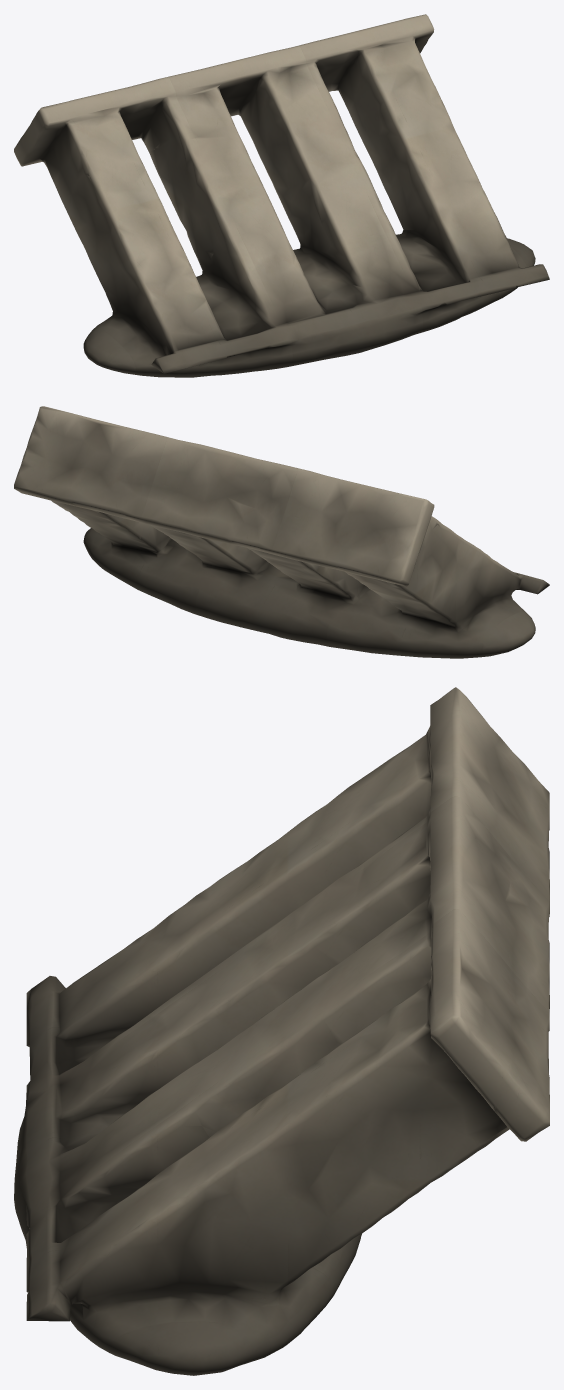
File: numeral_iiii.glb
The picture shows the model from 3 angles, top to bottom: view 1: azimuth 30°, elevation 25°; view 2: azimuth 150°, elevation 25°; view 3: azimuth 270°, elevation 25°; orthographic projection. The views are drawn at different scales.
Parts seen in each view (by area): view 1: numeral_iiii_stone; view 2: numeral_iiii_stone; view 3: numeral_iiii_stone.
Boxes of the visible parts, bbox=[...] form: numeral_iiii_stone: bbox=[14, 14, 549, 377]; numeral_iiii_stone: bbox=[14, 406, 549, 658]; numeral_iiii_stone: bbox=[14, 687, 549, 1375].
Bounding box in the file's own units: 7.4 × 3.55 × 4.48.
Materials: 1 (1 with a texture image).
